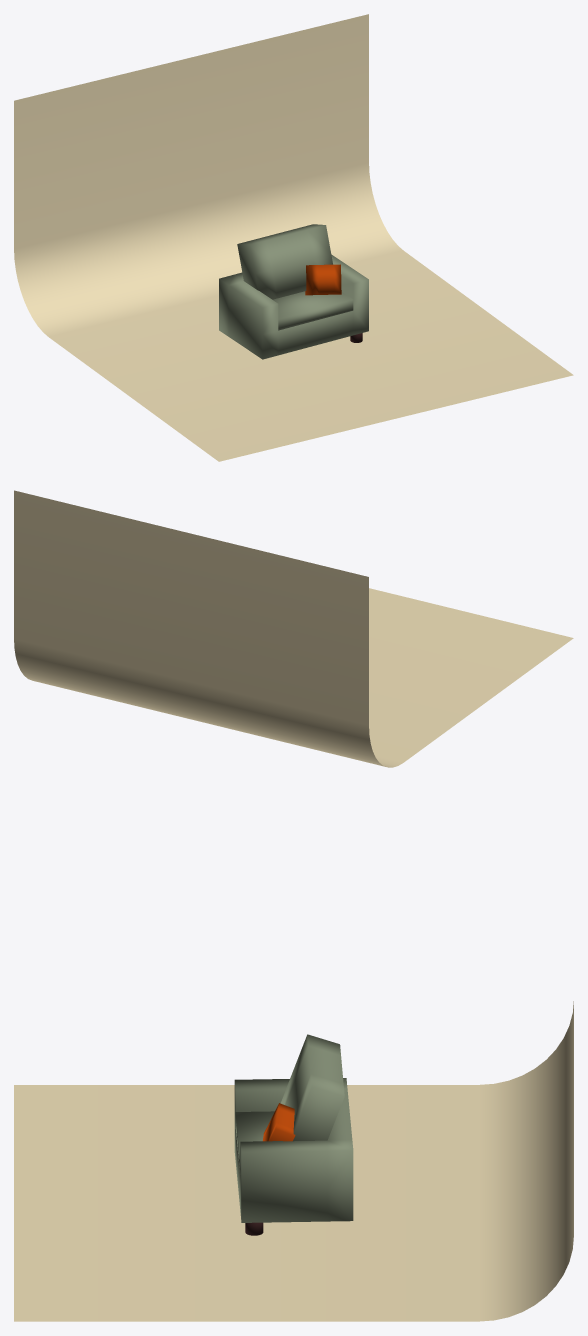
The model's file is chair.glb.
3 views of the same model, one above another, from view 1: azimuth 30°, elevation 25°; view 2: azimuth 150°, elevation 25°; view 3: azimuth 270°, elevation 25° (orthographic). The views are drawn at different scales.
Visible parts, largest first — view 1: Plane, Cube, Cube.002, Cube.001, Cube.003; view 2: Plane; view 3: Plane, Cube, Cube.002, Cube.001, Cube.003.
Part boxes in pixels (box(x1,y1,x2,y2)): Plane: box(14, 14, 573, 461); Cube: box(219, 254, 368, 359); Cube.002: box(237, 224, 332, 299); Cube.001: box(273, 291, 353, 330); Cube.003: box(305, 264, 341, 295); Plane: box(14, 490, 573, 767); Plane: box(14, 1001, 573, 1321); Cube: box(234, 1078, 353, 1222); Cube.002: box(280, 1034, 344, 1141); Cube.001: box(235, 1111, 274, 1174); Cube.003: box(263, 1103, 295, 1141).
Size of the model in its own units: 10 by 5.68 by 10.
